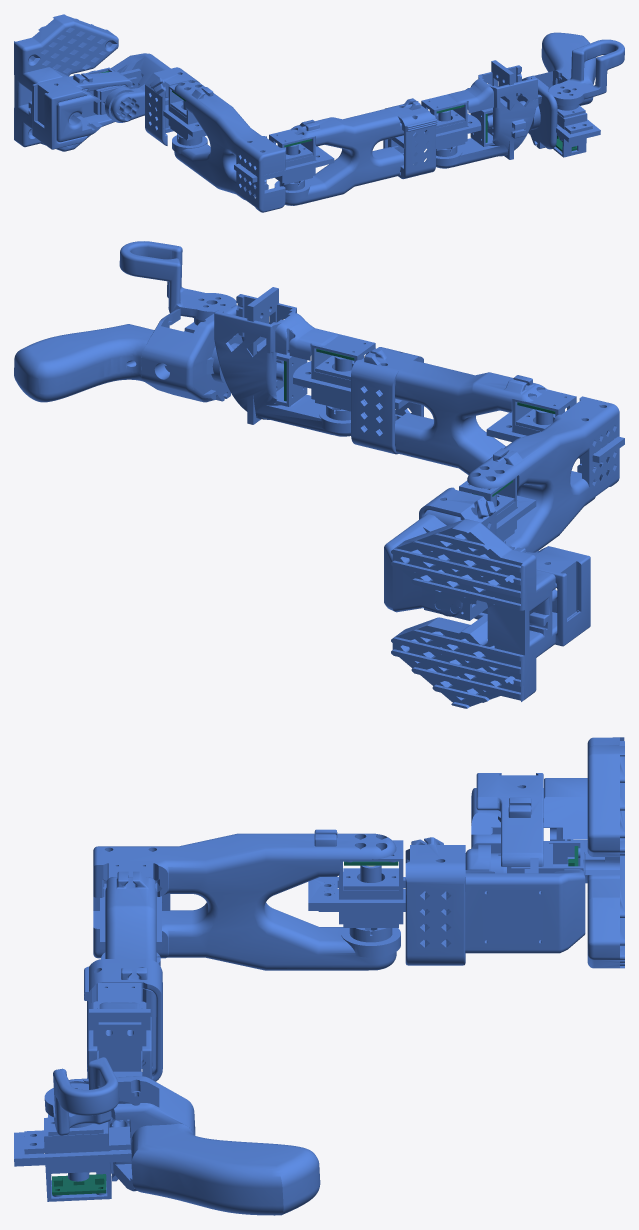
File: leader.glb
3 renders of one model, top to bottom at view 1: azimuth 30°, elevation 25°; view 2: azimuth 150°, elevation 25°; view 3: azimuth 270°, elevation 25°, orthographic. The views are drawn at different scales.
Visible parts, largest first — view 1: leader_base_link:leader_print, leader_lower_arm_link:leader_print, leader_upper_arm_link:leader_print, leader_wrist_link:leader_print, leader_gripper_link:leader_print, leader_shoulder_link:leader_print, leader_moving_jaw_so101_v1_link:leader_print; view 2: leader_base_link:leader_print, leader_lower_arm_link:leader_print, leader_upper_arm_link:leader_print, leader_gripper_link:leader_print, leader_wrist_link:leader_print, leader_shoulder_link:leader_print, leader_moving_jaw_so101_v1_link:leader_print; view 3: leader_upper_arm_link:leader_print, leader_shoulder_link:leader_print, leader_gripper_link:leader_print, leader_base_link:leader_print, leader_lower_arm_link:leader_print, leader_wrist_link:leader_print, leader_moving_jaw_so101_v1_link:leader_print, leader_gripper_link:pcb.
Part boxes in pixels (box(x1,y1,x2,y2)): leader_base_link:leader_print: box(14, 14, 141, 151); leader_lower_arm_link:leader_print: box(274, 94, 481, 205); leader_upper_arm_link:leader_print: box(172, 80, 334, 212); leader_wrist_link:leader_print: box(426, 60, 542, 168); leader_gripper_link:leader_print: box(487, 32, 600, 157); leader_shoulder_link:leader_print: box(89, 53, 206, 145); leader_moving_jaw_so101_v1_link:leader_print: box(549, 39, 624, 140); leader_base_link:leader_print: box(391, 519, 590, 708); leader_lower_arm_link:leader_print: box(293, 333, 553, 474); leader_upper_arm_link:leader_print: box(467, 389, 624, 552); leader_gripper_link:leader_print: box(14, 305, 283, 402); leader_wrist_link:leader_print: box(214, 287, 352, 436); leader_shoulder_link:leader_print: box(384, 476, 536, 616); leader_moving_jaw_so101_v1_link:leader_print: box(119, 241, 236, 325); leader_upper_arm_link:leader_print: box(93, 829, 400, 970); leader_shoulder_link:leader_print: box(308, 837, 585, 965); leader_gripper_link:leader_print: box(14, 1076, 320, 1215); leader_base_link:leader_print: box(471, 737, 624, 968); leader_lower_arm_link:leader_print: box(84, 871, 162, 1081); leader_wrist_link:leader_print: box(87, 1002, 152, 1079); leader_moving_jaw_so101_v1_link:leader_print: box(44, 1057, 119, 1181); leader_gripper_link:pcb: box(52, 1174, 106, 1195).
Size of the model in its own units: 431 by 111 by 286.
